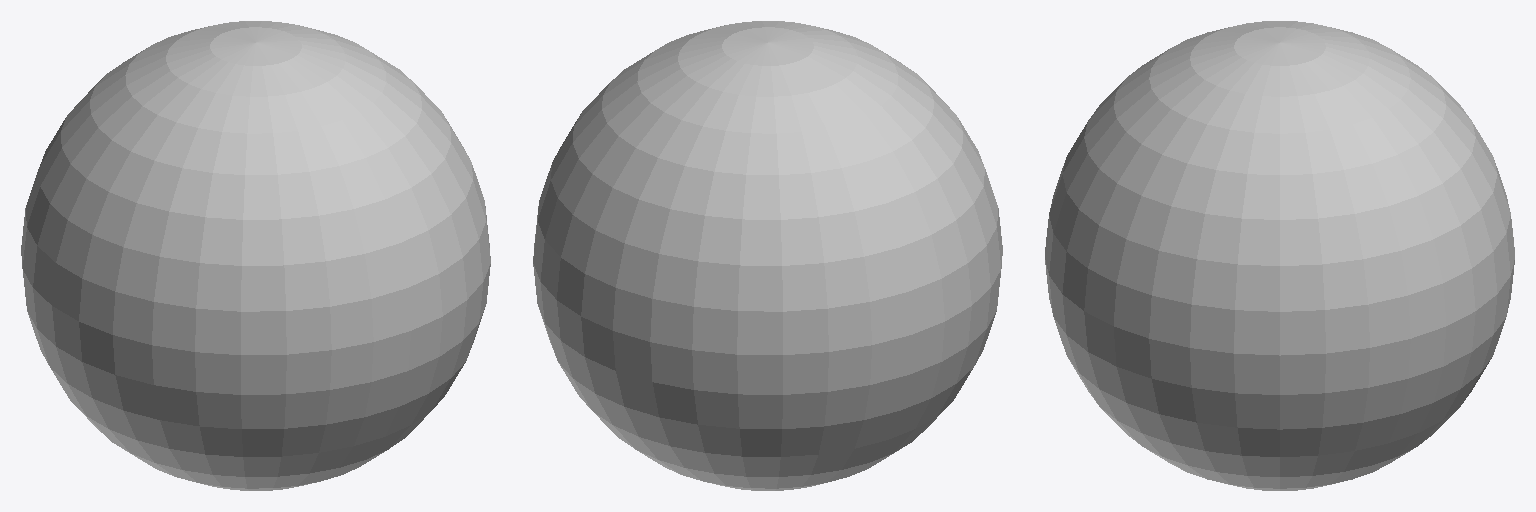
Rendered from moon.obj.
The picture shows the model from 3 angles: view 1: azimuth 30°, elevation 25°; view 2: azimuth 150°, elevation 25°; view 3: azimuth 270°, elevation 25°; orthographic projection.
Parts seen in each view (by area): view 1: Sphere_Sphere.003; view 2: Sphere_Sphere.003; view 3: Sphere_Sphere.003.
Part boxes in pixels (bbox=[...]): Sphere_Sphere.003: bbox=[21, 21, 490, 490]; Sphere_Sphere.003: bbox=[533, 21, 1002, 490]; Sphere_Sphere.003: bbox=[1045, 21, 1514, 490].
Size of the model in its own units: 3.47 by 3.47 by 3.47.